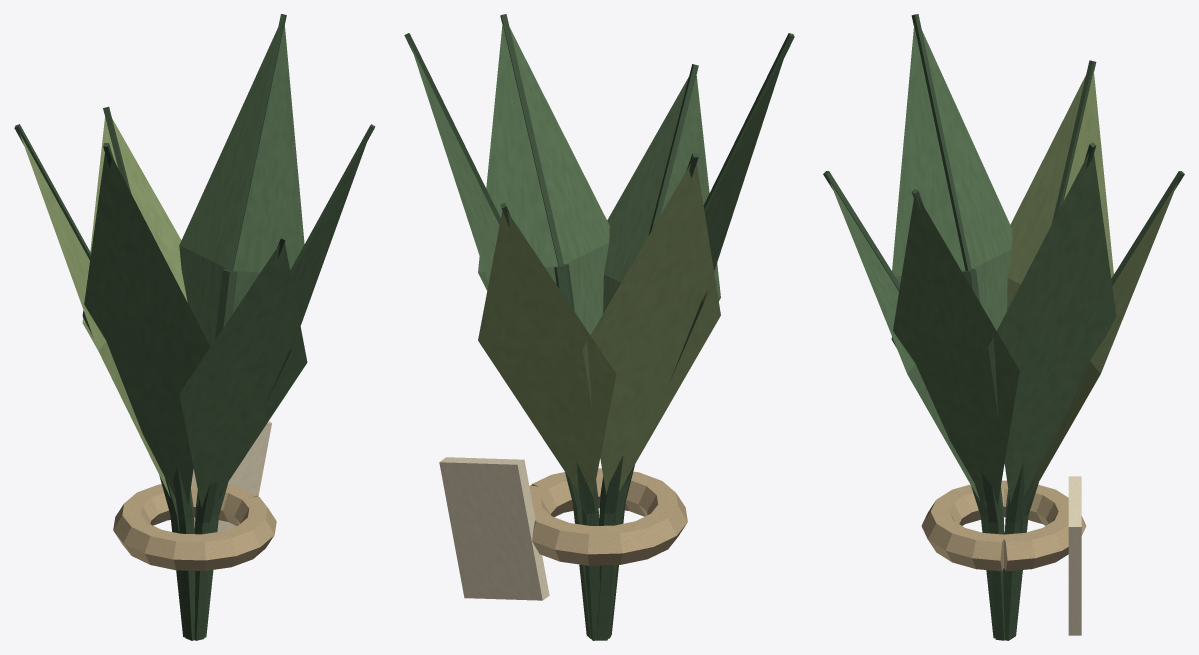
The model's file is herbal_medicine.obj.
The picture shows the model from 3 angles, left to right: view 1: azimuth 30°, elevation 25°; view 2: azimuth 150°, elevation 25°; view 3: azimuth 270°, elevation 25°; orthographic projection. The views are drawn at different scales.
Visible parts, largest first — view 1: herbal_medicine; view 2: herbal_medicine; view 3: herbal_medicine.
Part boxes in pixels (left/top/right/bottom): herbal_medicine: left=14, top=14, right=375, bottom=640; herbal_medicine: left=404, top=14, right=794, bottom=640; herbal_medicine: left=823, top=14, right=1184, bottom=640.
Size of the model in its own units: 2.21 by 4.32 by 2.54.
Materials: 1 (1 with a texture image).
